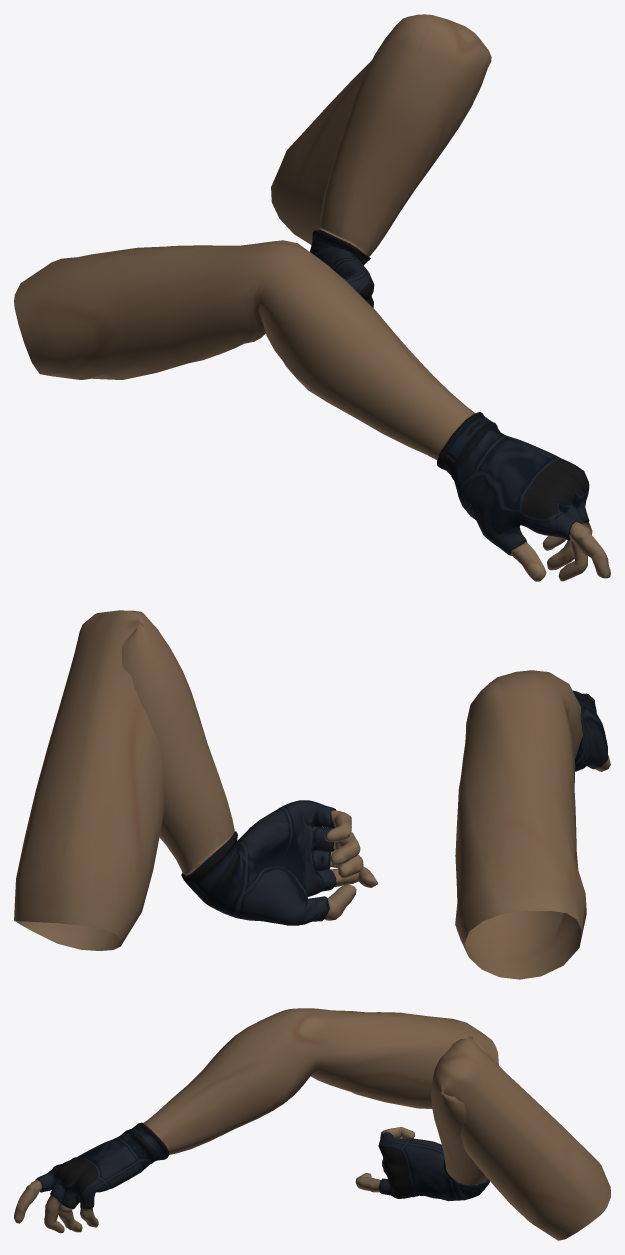
Rendered from arms_shotgun.fbx.
3 views of the same model, one above another, from view 1: azimuth 30°, elevation 25°; view 2: azimuth 150°, elevation 25°; view 3: azimuth 270°, elevation 25° (orthographic). The views are drawn at different scales.
Visible parts, largest first — view 1: glove_low.002; view 2: glove_low.002; view 3: glove_low.002.
Part boxes in pixels (x1,y1,x2,y2): glove_low.002: (14,14,610,581); glove_low.002: (14,610,610,979); glove_low.002: (14,1008,610,1240).
Size of the model in its own units: 392 by 265 by 591.
